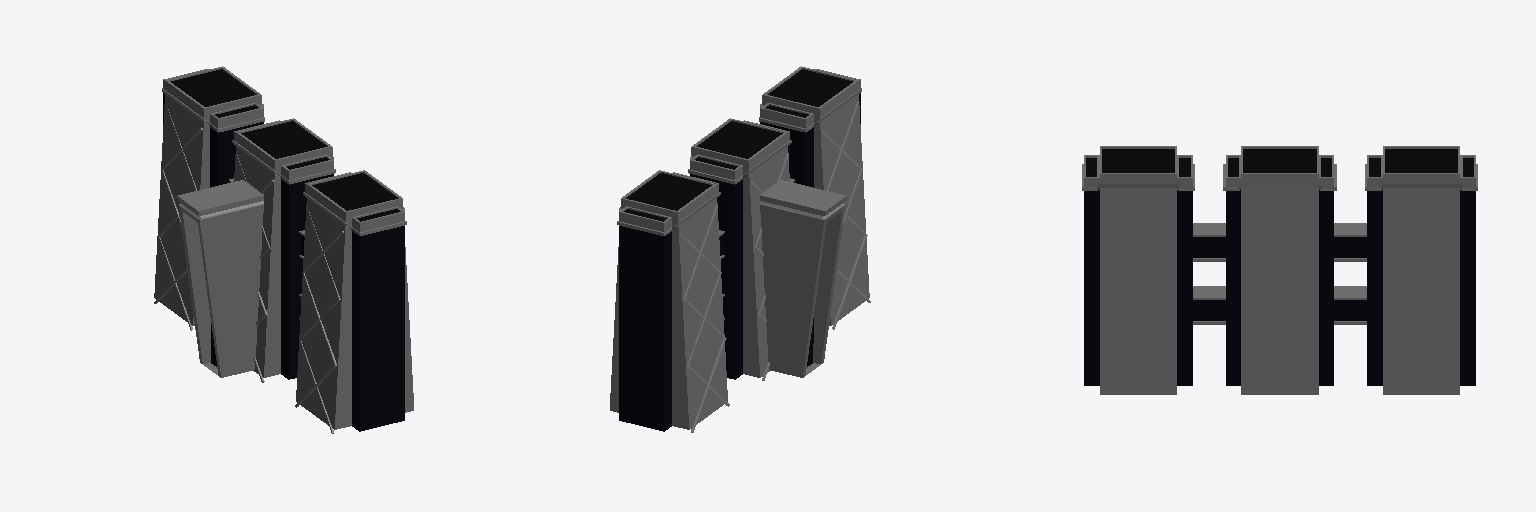
The model's file is buildingK5.obj.
The picture shows the model from 3 angles: view 1: azimuth 30°, elevation 25°; view 2: azimuth 150°, elevation 25°; view 3: azimuth 270°, elevation 25°; orthographic projection.
Visible parts, largest first — view 1: Cube.025_Cube.031; view 2: Cube.025_Cube.031; view 3: Cube.025_Cube.031.
Part boxes in pixels (x1,y1,x2,y2): Cube.025_Cube.031: (154, 66, 413, 433); Cube.025_Cube.031: (610, 66, 870, 432); Cube.025_Cube.031: (1082, 146, 1477, 394).
Bounding box in the file's own units: 36.55 × 56.1 × 91.92.